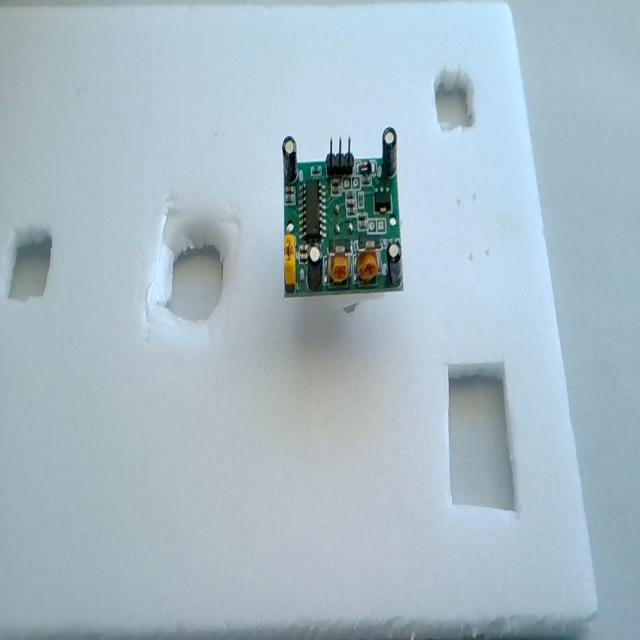Electrolytic capacitor: (382, 126, 398, 179), (282, 136, 298, 184), (307, 246, 323, 291), (387, 241, 402, 287)
IC: (298, 180, 326, 244)
pinheader: (326, 135, 354, 176)
